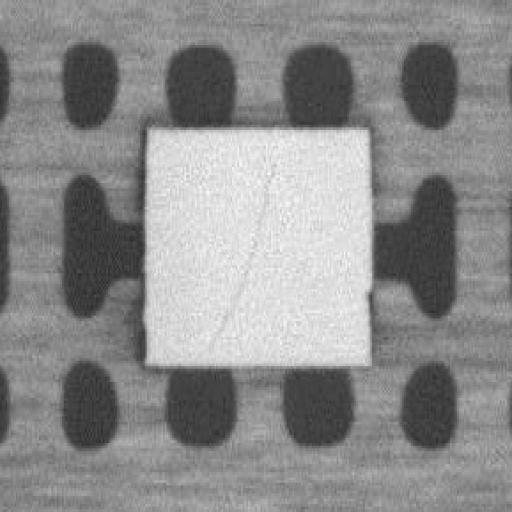DIE_CRACK: (204, 162, 276, 347)
